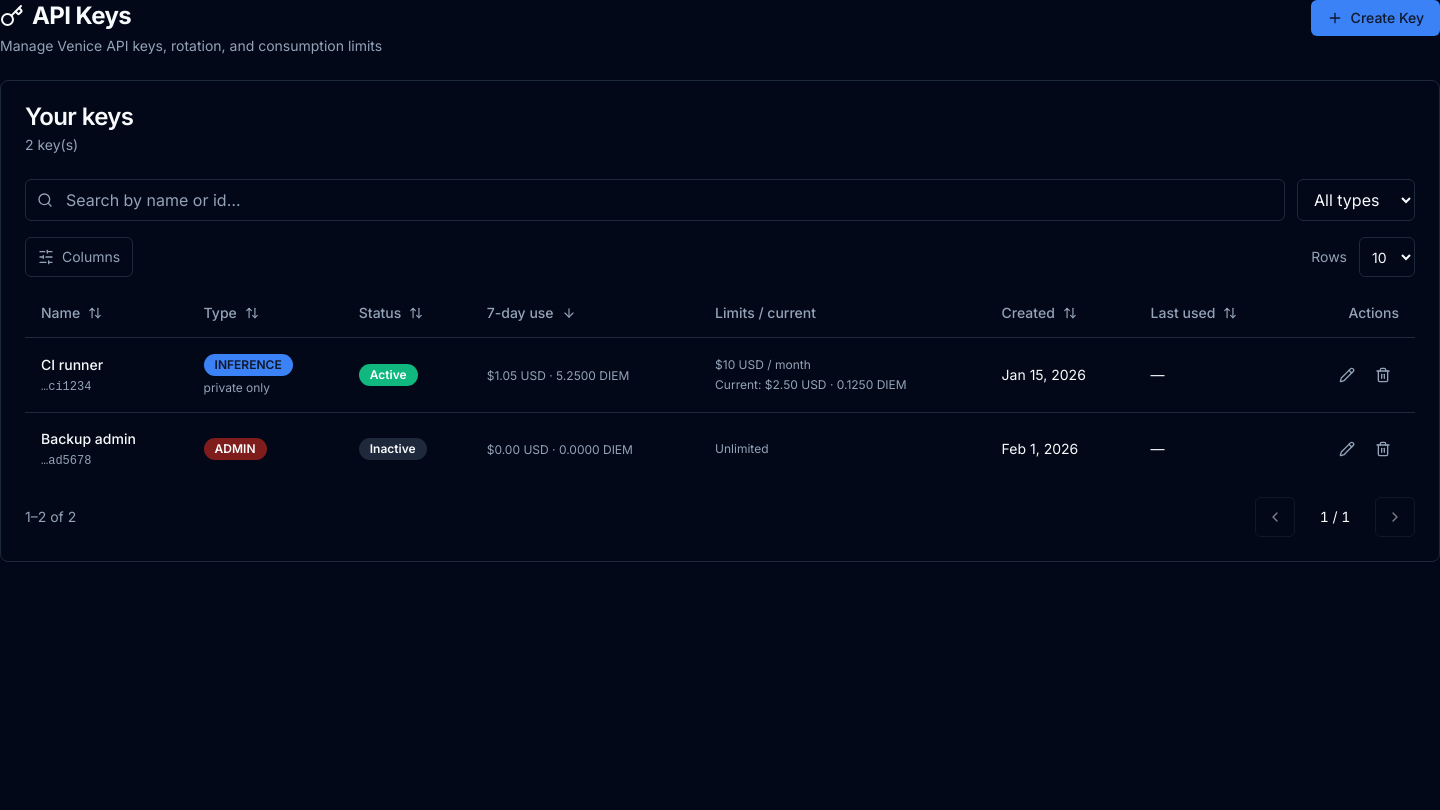
ApiKeysView — edit flow › opens edit modal with pre-filled values
What coordinates should you click on to do the following:
click the button named "edit ci runner"
I would click on:
 (1347, 374)
Its box is [1331, 358, 1363, 390].
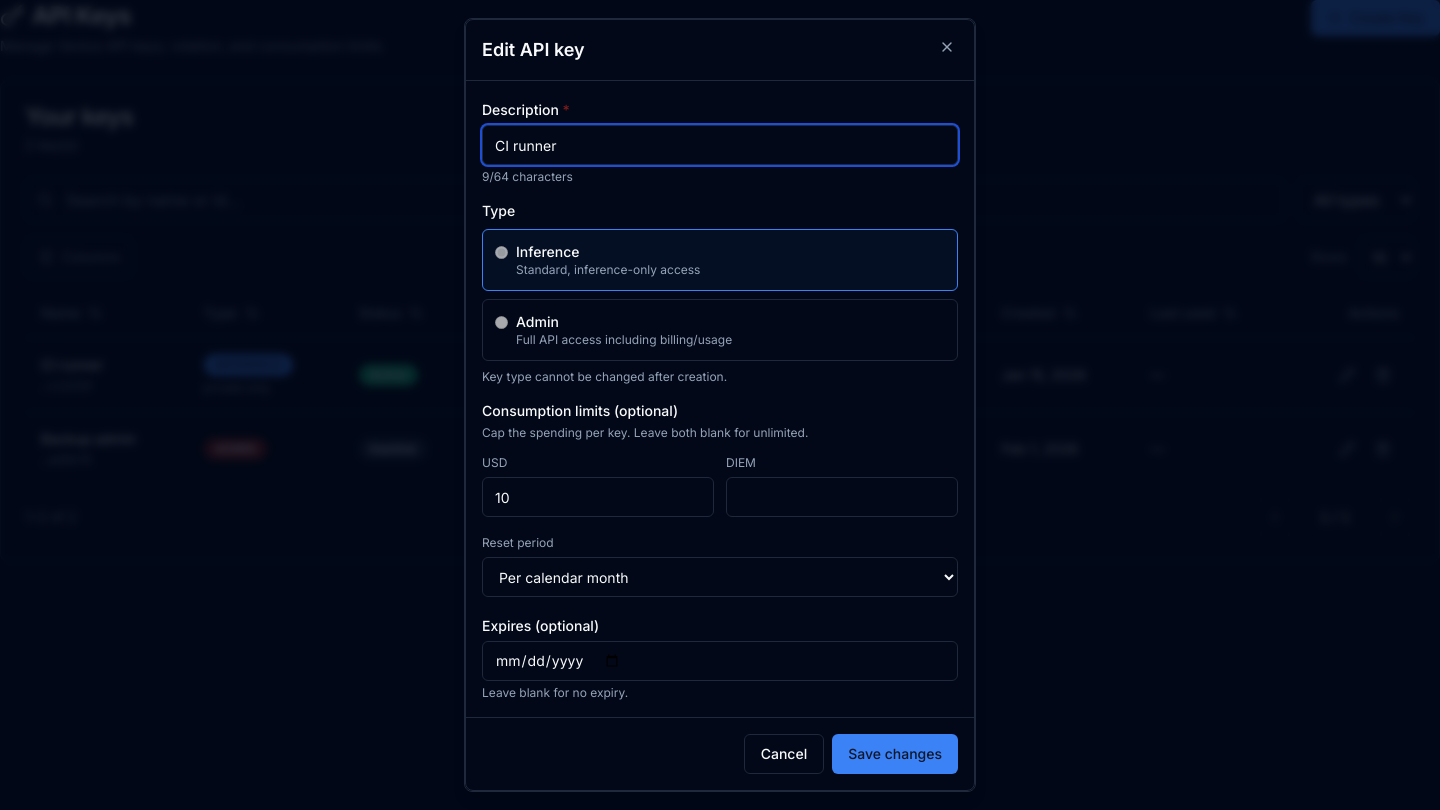
Check: the dialog "Edit API key" is shown, box [464, 18, 976, 792]
Check: the field showing "CI runner" is shown, box [482, 125, 958, 165]
